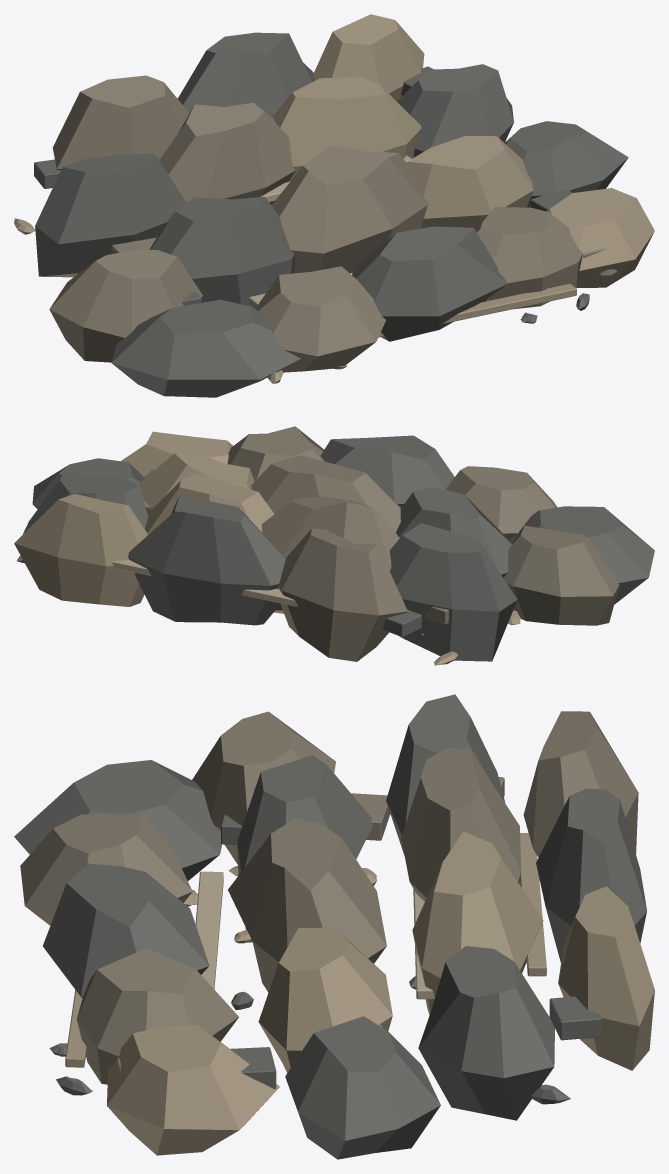
The model's file is palace-slope-terrace-set.glb.
3 views of the same model, one above another, from view 1: azimuth 30°, elevation 25°; view 2: azimuth 150°, elevation 25°; view 3: azimuth 270°, elevation 25° (orthographic). The views are drawn at different scales.
Parts seen in each view (by area): view 1: palace_slope_cliff_mass_7, palace_slope_cliff_mass_0, palace_slope_cliff_mass_10, palace_slope_cliff_mass_2, palace_slope_cliff_mass_6, palace_slope_cliff_mass_11, palace_slope_cliff_mass_5, palace_slope_cliff_mass_1, palace_slope_cliff_mass_12, palace_slope_cliff_mass_14, palace_slope_cliff_mass_8, palace_slope_cliff_mass_15 (+7 smaller); view 2: palace_slope_cliff_mass_15, palace_slope_cliff_mass_10, palace_slope_cliff_mass_14, palace_slope_cliff_mass_16, palace_slope_cliff_mass_5, palace_slope_cliff_mass_2, palace_slope_cliff_mass_7, palace_slope_cliff_mass_11, palace_slope_cliff_mass_0, palace_slope_cliff_mass_1, palace_slope_cliff_mass_6, palace_slope_cliff_mass_12 (+7 smaller); view 3: palace_slope_cliff_mass_13, palace_slope_cliff_mass_9, palace_slope_cliff_mass_4, palace_slope_cliff_mass_7, palace_slope_cliff_mass_2, palace_slope_cliff_mass_12, palace_slope_cliff_mass_16, palace_slope_cliff_mass_8, palace_slope_cliff_mass_3, palace_slope_cliff_mass_15, palace_slope_cliff_mass_0, palace_slope_cliff_mass_11 (+12 smaller).
Boxes of the visible parts, x1,y1,x2,y2 form: palace_slope_cliff_mass_7: (271,146,427,273); palace_slope_cliff_mass_0: (111,299,300,397); palace_slope_cliff_mass_10: (35,153,186,277); palace_slope_cliff_mass_2: (352,226,507,341); palace_slope_cliff_mass_6: (149,196,294,308); palace_slope_cliff_mass_11: (159,102,295,204); palace_slope_cliff_mass_5: (49,250,202,362); palace_slope_cliff_mass_1: (254,266,385,372); palace_slope_cliff_mass_12: (272,77,421,181); palace_slope_cliff_mass_14: (52,75,188,169); palace_slope_cliff_mass_8: (406,136,533,228); palace_slope_cliff_mass_15: (177,32,314,116); palace_slope_cliff_mass_15: (128,495,285,625); palace_slope_cliff_mass_10: (389,523,517,661); palace_slope_cliff_mass_14: (278,528,407,661); palace_slope_cliff_mass_16: (14,494,148,606); palace_slope_cliff_mass_5: (503,525,619,625); palace_slope_cliff_mass_2: (320,435,454,507); palace_slope_cliff_mass_7: (251,455,400,532); palace_slope_cliff_mass_11: (261,496,399,613); palace_slope_cliff_mass_0: (509,506,654,604); palace_slope_cliff_mass_1: (445,466,557,539); palace_slope_cliff_mass_6: (396,487,512,577); palace_slope_cliff_mass_12: (145,474,274,534); palace_slope_cliff_mass_13: (418,946,554,1120); palace_slope_cliff_mass_9: (285,1016,440,1159); palace_slope_cliff_mass_4: (107,1024,279,1155); palace_slope_cliff_mass_7: (228,818,386,992); palace_slope_cliff_mass_2: (43,863,209,997); palace_slope_cliff_mass_12: (412,831,543,1014); palace_slope_cliff_mass_16: (558,886,654,1070); palace_slope_cliff_mass_8: (258,927,392,1072); palace_slope_cliff_mass_3: (76,948,238,1084); palace_slope_cliff_mass_15: (536,788,646,962); palace_slope_cliff_mass_0: (14,760,222,880); palace_slope_cliff_mass_11: (401,748,521,901).
Bounding box in the file's own units: 9.47 × 2.43 × 6.71.
